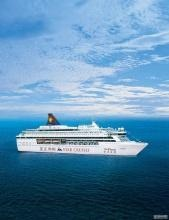youlun: (7, 114, 150, 156)
